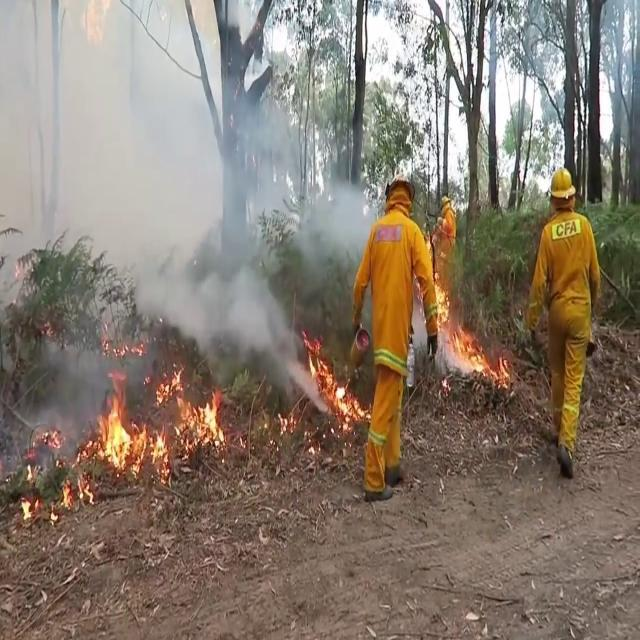Fire: (89, 392, 167, 476), (430, 272, 486, 377), (302, 334, 356, 430), (168, 374, 227, 446)
Smoke: (0, 3, 304, 385)
